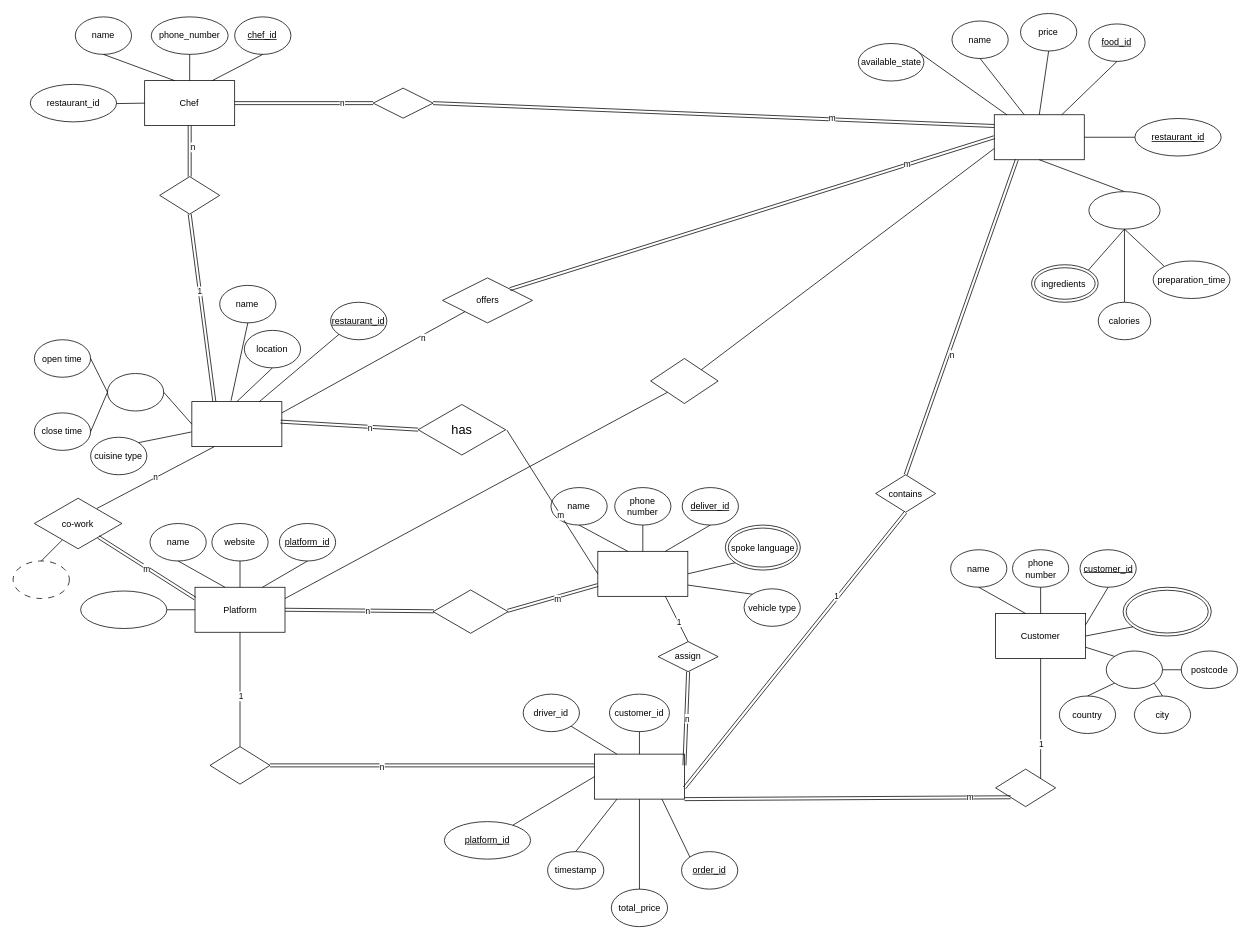
Some shapes in this 1251 by 940 pixel diagram are drawn without their labels. Here are the shapes that lost their labels. From the top down, the box of each, then its label:
(372, 87, 433, 118): prepare
(994, 114, 1084, 160): FoodItem
(159, 176, 220, 214): employ
(1088, 191, 1160, 229): description
(107, 373, 164, 411): open hour
(650, 358, 718, 404): Display
(191, 401, 282, 447): Restaurant
(12, 560, 69, 598): num_cowork
(597, 551, 688, 596): Deliver Driver
(80, 590, 167, 628): num_of_delivers
(432, 588, 508, 634): hired
(1122, 586, 1211, 636): payment_method
(1106, 650, 1162, 688): address
(209, 746, 270, 784): belong_to
(594, 753, 684, 799): Order
(995, 768, 1056, 807): place
